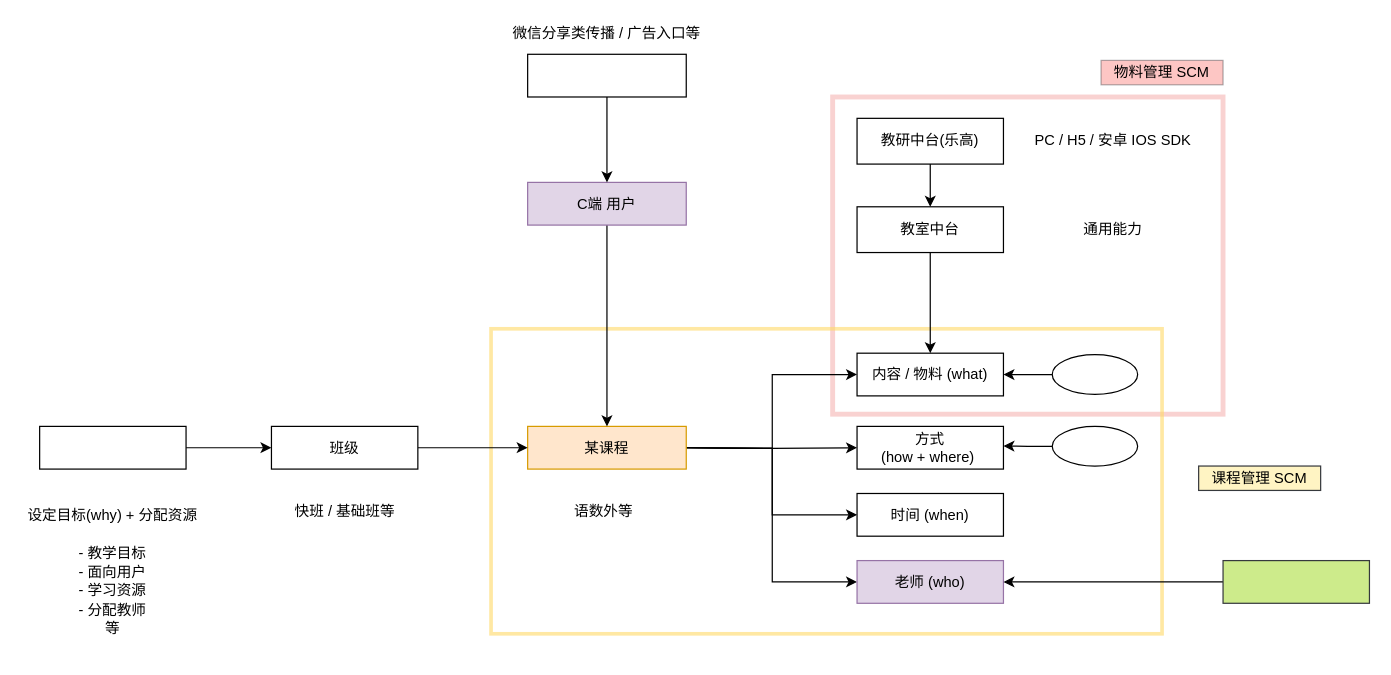
The diagram is 1391 pixels wide and 675 high, and some of its shapes have lost their labels. The centre of each missing label's shape, as x and y in pixels:
年级: [112,447]
教师管理 CRM: [1295,581]
直播 / 录播: [1094,445]
营销: [606,75]
课时数: [1094,373]
